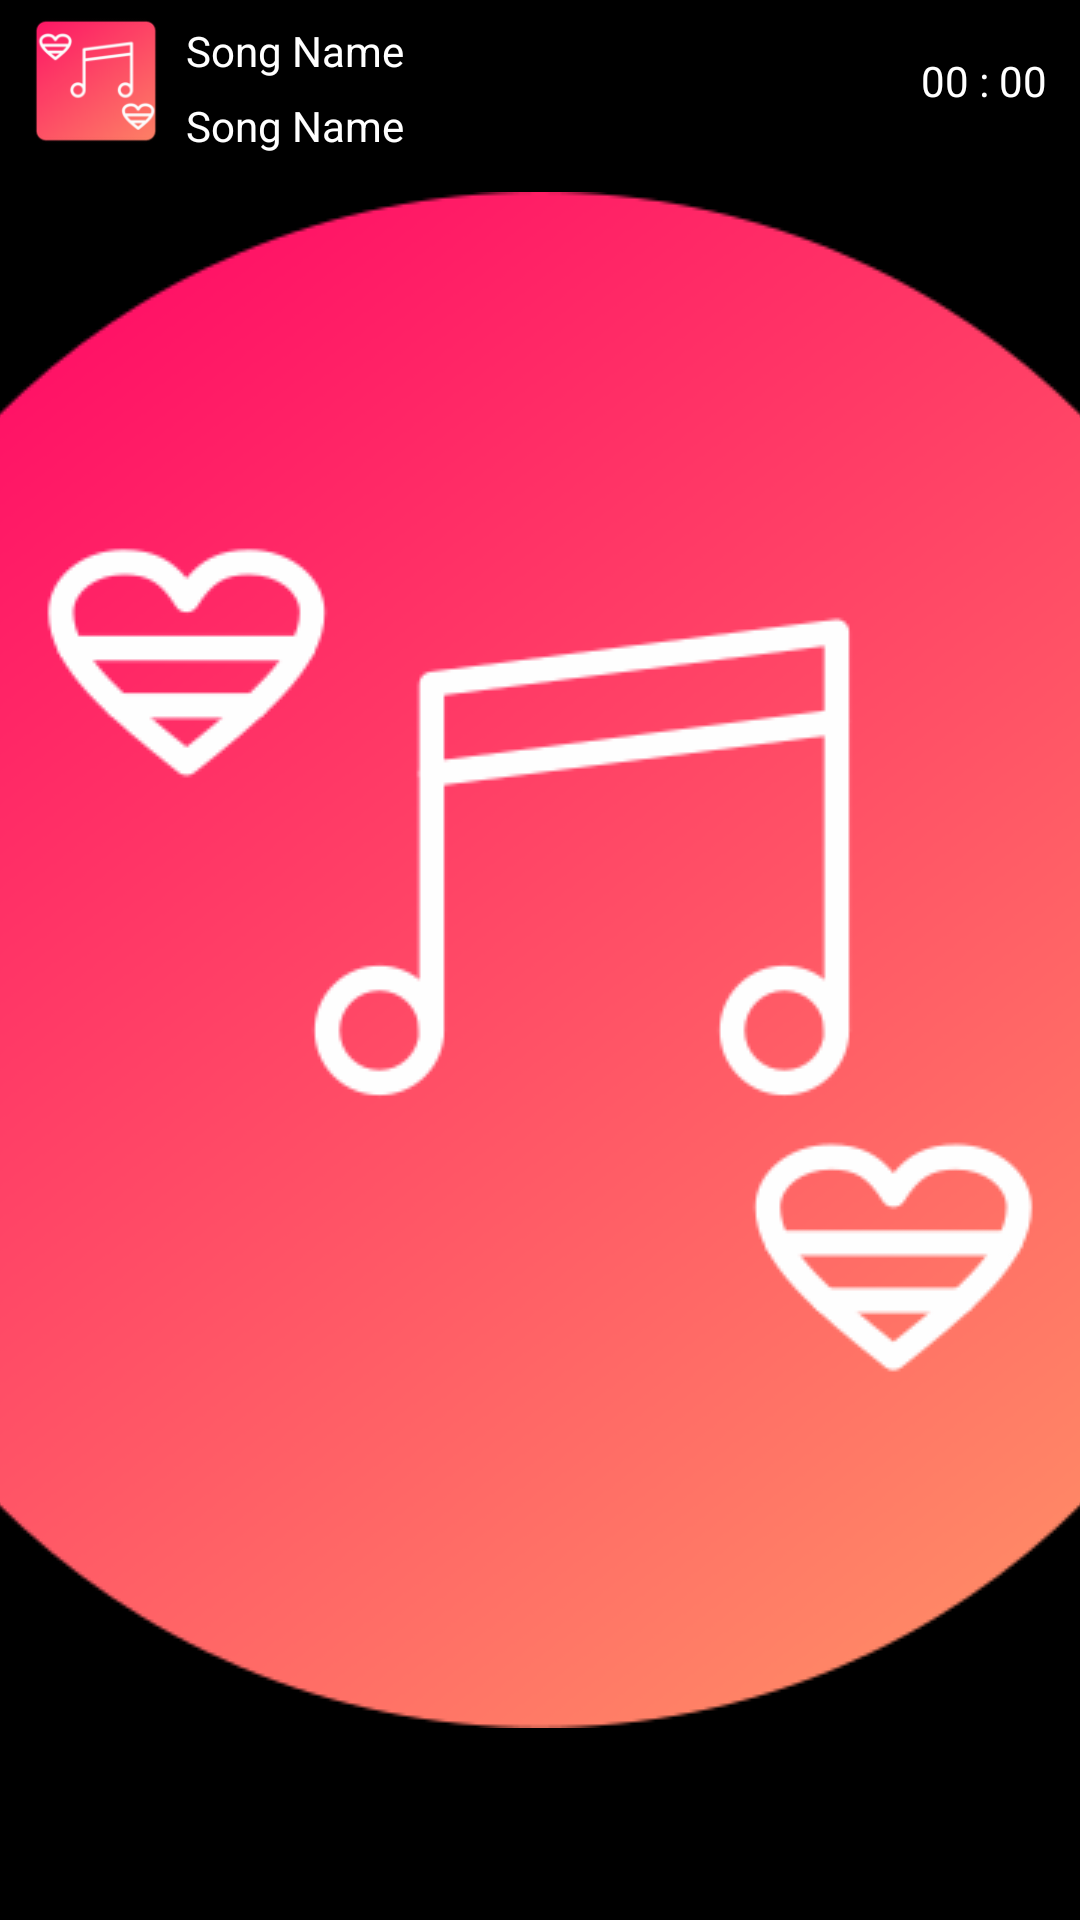

Screen size 1080*1920. Icon name, then its box in pixels as [x1=x1, y1=y1, x2=x2, y2=y2]:
music player: [x1=36, y1=21, x2=156, y2=141]
